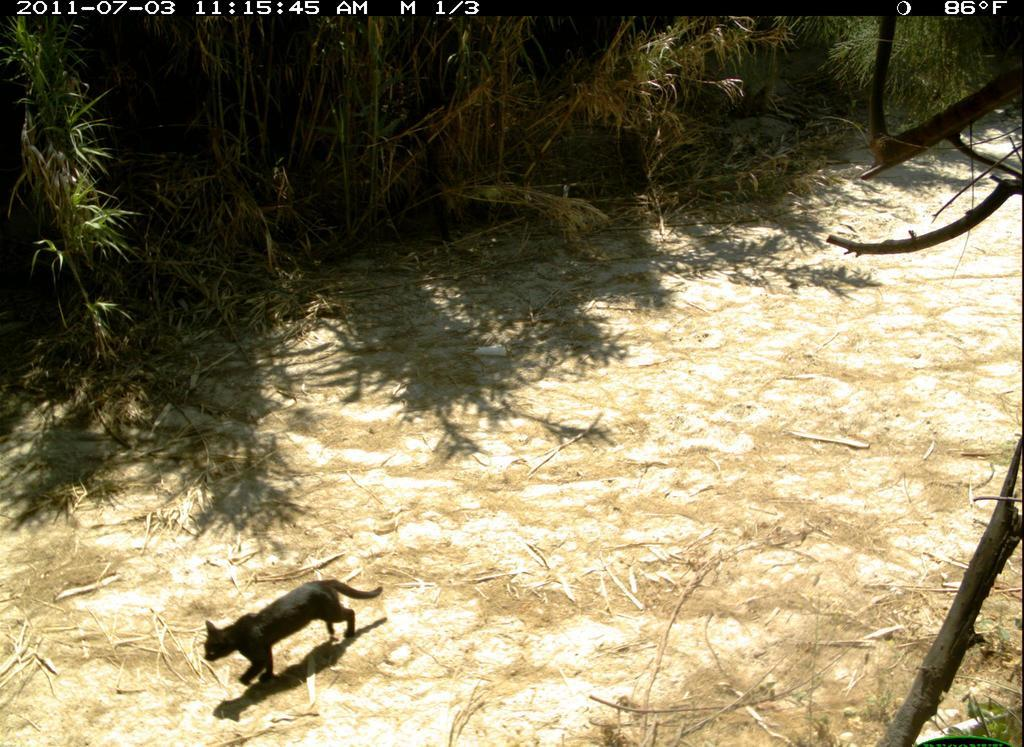cat: (180, 570, 400, 715)
